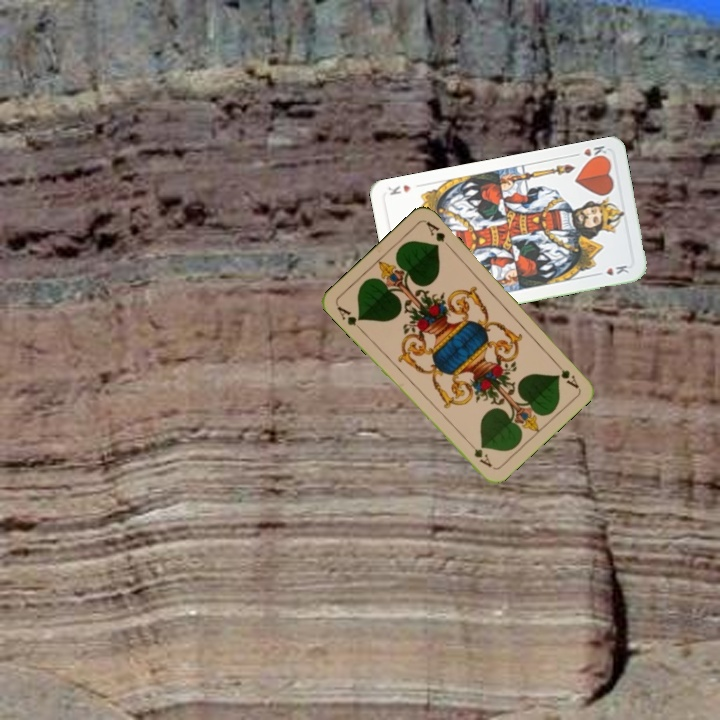GA: (550, 357, 581, 391), (333, 302, 365, 334)
HK: (569, 141, 611, 164)
